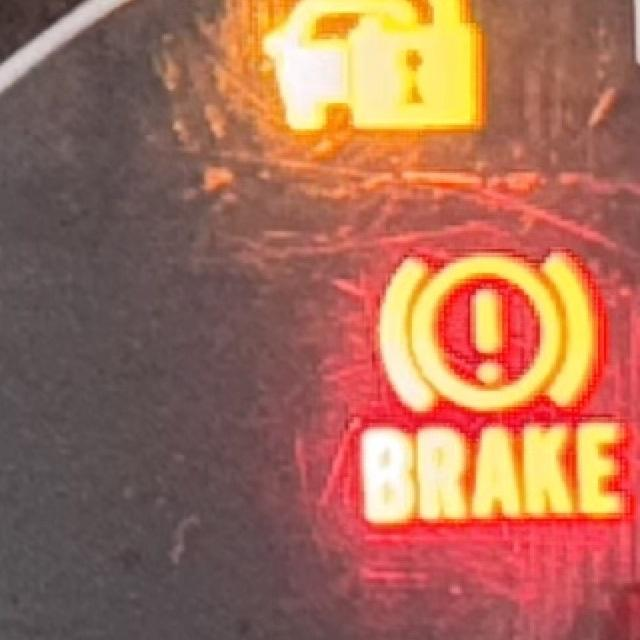Break System Issue: (362, 252, 627, 524)
Car SecurityWarning: (260, 1, 484, 133)
